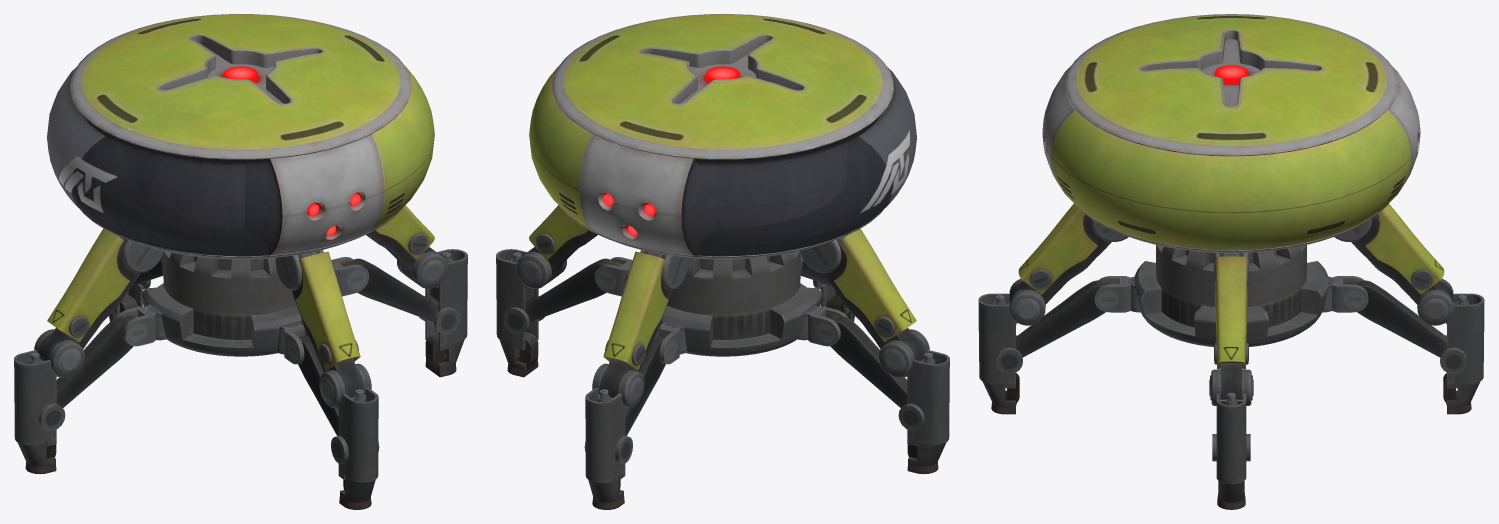
File: Unv_C_Companion005.glb
The picture shows the model from 3 angles, left to right: view 1: azimuth 30°, elevation 25°; view 2: azimuth 150°, elevation 25°; view 3: azimuth 270°, elevation 25°; orthographic projection. The views are drawn at different scales.
Parts seen in each view (by area): view 1: b_low, a1_low, c_low, a2_low, a4_low, a3_low, a5_low, a6_low, a6_low1, a4_low1, a5_low1, a7_low (+1 smaller); view 2: b_low, a1_low, c_low, a2_low, a4_low, a3_low, a5_low, a6_low, a6_low1, a4_low1, a5_low1, a7_low (+1 smaller); view 3: b_low, a1_low, a4_low1, a2_low, a5_low1, a6_low1, a6_low, a7_low1, a5_low, a4_low, a7_low.
Part boxes in pixels (x1,y1,x2,y2): b_low: (47, 14, 434, 370); a1_low: (70, 14, 411, 339); c_low: (47, 66, 360, 256); a2_low: (141, 134, 384, 356); a4_low: (38, 230, 460, 458); a3_low: (73, 116, 267, 254); a5_low: (28, 233, 453, 377); a6_low: (14, 249, 467, 474); a6_low1: (114, 285, 378, 509); a4_low1: (120, 250, 379, 490); a5_low1: (123, 250, 371, 407); a7_low: (17, 252, 464, 466); b_low: (529, 14, 916, 370); a1_low: (552, 14, 893, 339); c_low: (603, 66, 916, 256); a2_low: (579, 134, 822, 356); a4_low: (503, 230, 925, 458); a3_low: (696, 116, 890, 254); a5_low: (510, 233, 935, 377); a6_low: (496, 249, 949, 474); a6_low1: (585, 285, 849, 509); a4_low1: (584, 250, 843, 490); a5_low1: (592, 250, 840, 407); a7_low: (499, 252, 946, 466); b_low: (1018, 14, 1444, 369); a1_low: (1064, 14, 1398, 327); a4_low1: (995, 214, 1467, 405); a2_low: (1042, 65, 1420, 346); a5_low1: (994, 219, 1468, 325); a6_low1: (978, 293, 1484, 414); a6_low: (1216, 393, 1246, 509); a7_low1: (982, 295, 1480, 407); a5_low: (1209, 252, 1253, 405); a4_low: (1212, 253, 1250, 461); a7_low: (1218, 393, 1244, 502).
Bounding box in the file's own units: 25.01 × 18.81 × 25.01.
3 materials, 3 textured.
